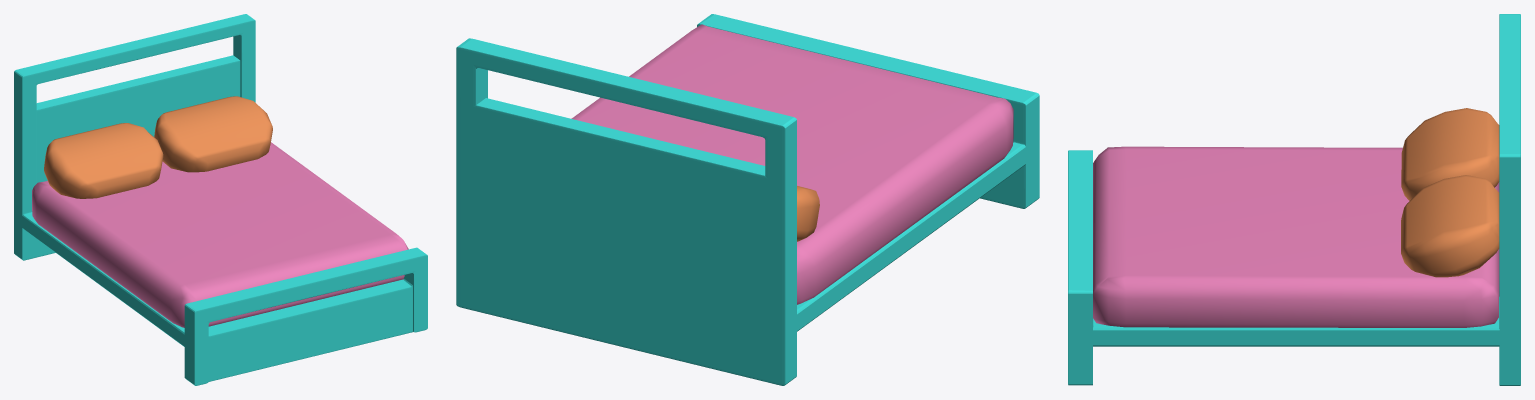
Rendered from bed.fbx.
3 views of the same model, side by side, from view 1: azimuth 30°, elevation 25°; view 2: azimuth 150°, elevation 25°; view 3: azimuth 270°, elevation 25° (orthographic). The views are drawn at different scales.
Visible parts, largest first — view 1: bed; view 2: bed; view 3: bed.
Boxes of the visible parts, x1=… form: bed: x1=14, y1=14, x2=427, y2=385; bed: x1=456, y1=14, x2=1039, y2=385; bed: x1=1068, y1=14, x2=1520, y2=385.
Size of the model in its own units: 163 by 123 by 219.
